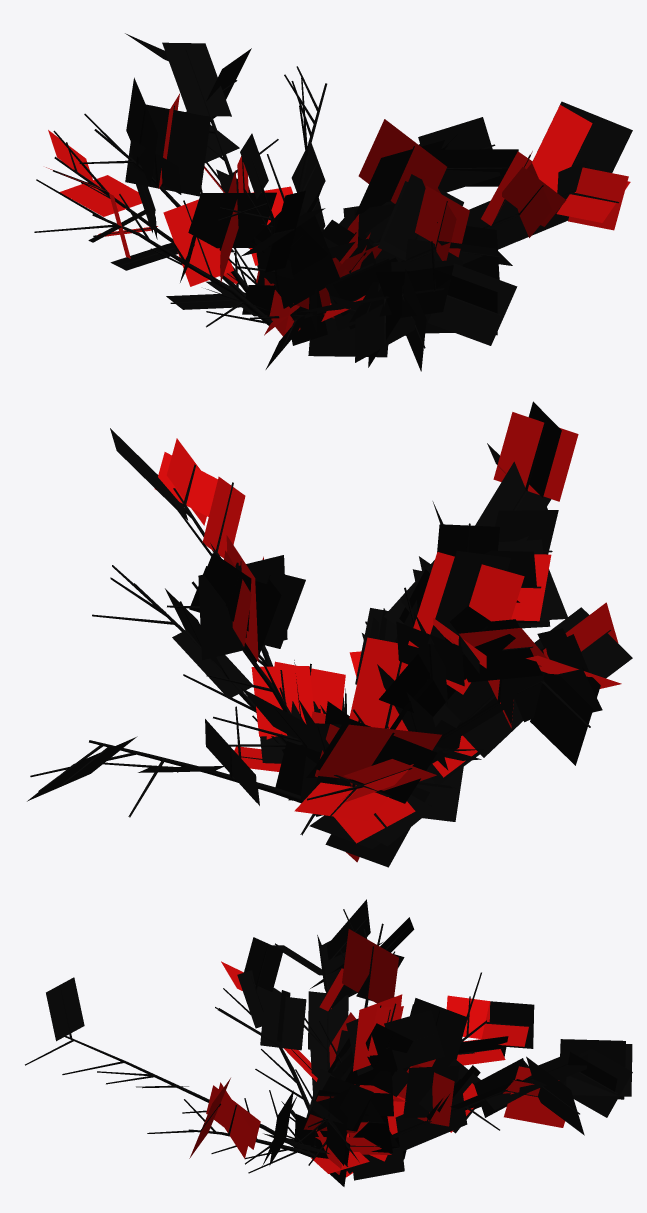
File: camelthorn.glb
3 views of the same model, one above another, from view 1: azimuth 30°, elevation 25°; view 2: azimuth 150°, elevation 25°; view 3: azimuth 270°, elevation 25° (orthographic). The views are drawn at different scales.
Visible parts, largest first — view 1: lod0; view 2: lod0; view 3: lod0.
Boxes of the visible parts, <box> form: lod0: <box>34,33,632,371</box>; lod0: <box>27,401,632,867</box>; lod0: <box>25,899,632,1186</box>.
Size of what is drawn, in the model's own units: 1.95 by 1.01 by 2.42.
